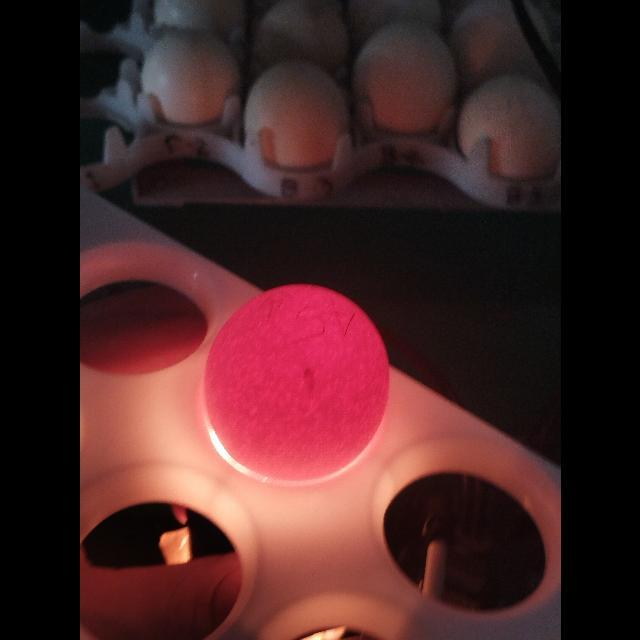Infertile: (200, 281, 392, 484)
